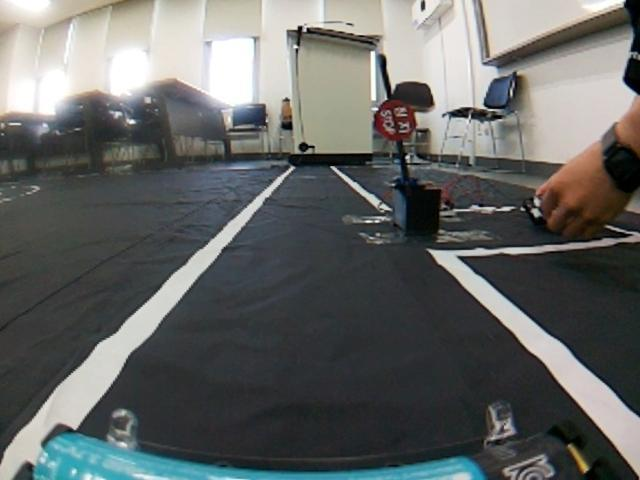sign_stop: (368, 99, 426, 142)
straight: (14, 267, 640, 468)
